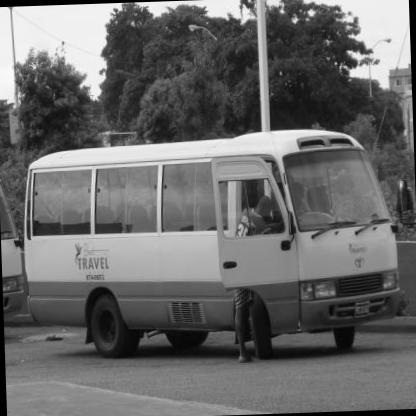bus: (11, 116, 403, 372)
